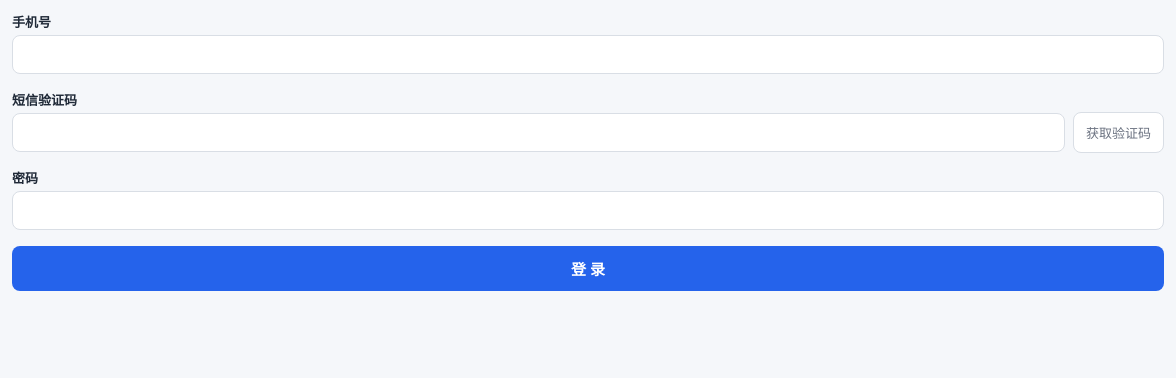
US2 非法输入即时拦截与友好提示 › 空值提交提示"此项为必填项"（P2 Scenario 5）
Step 1. Click the button "登 录" → click(588, 268), box [12, 246, 1164, 291]
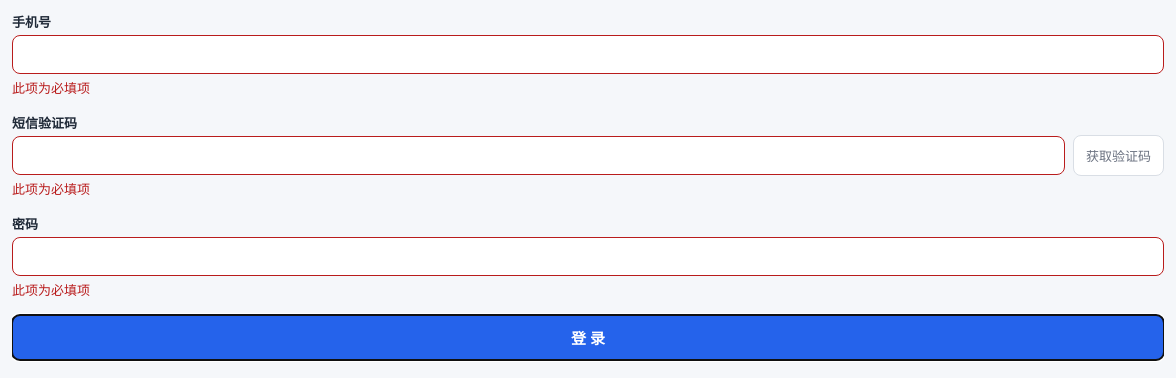
expect the text "此项为必填项" below "手机号" is shown: met, box [12, 80, 90, 96]
